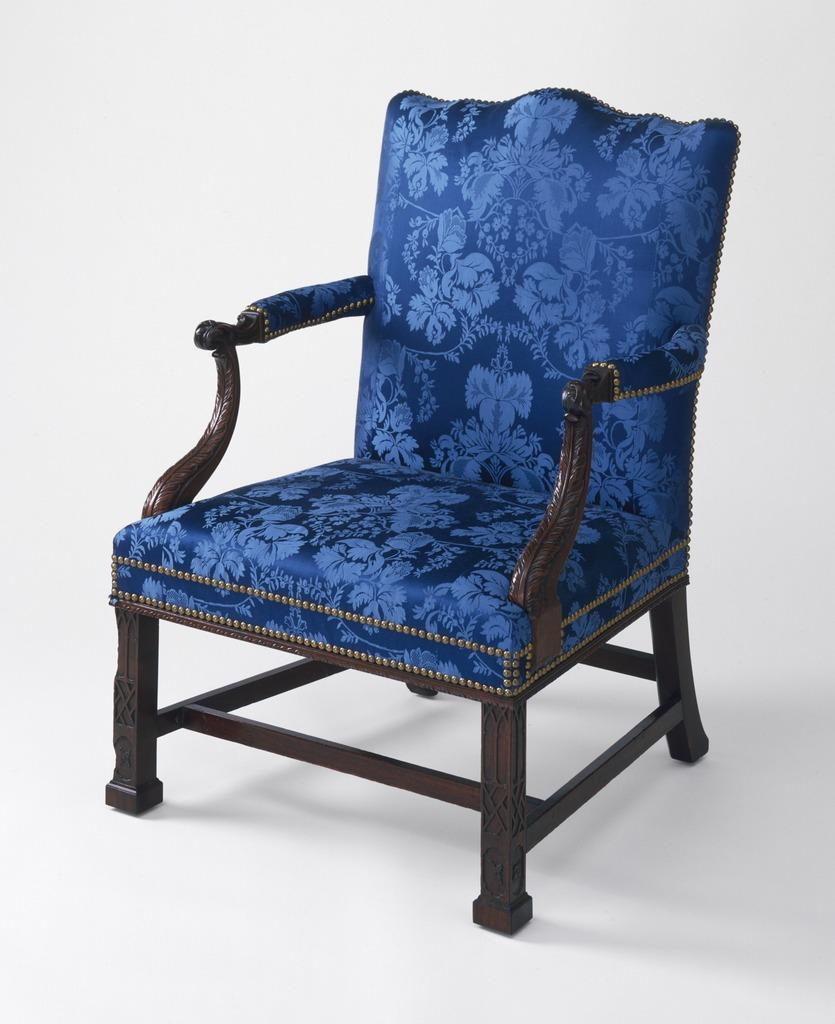Chair: (93, 84, 742, 937)
